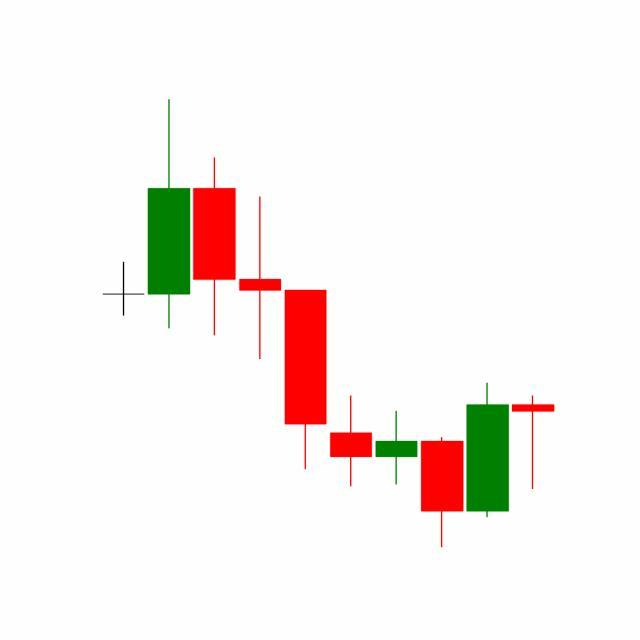Hikkake Pattern: (283, 286, 512, 549)
